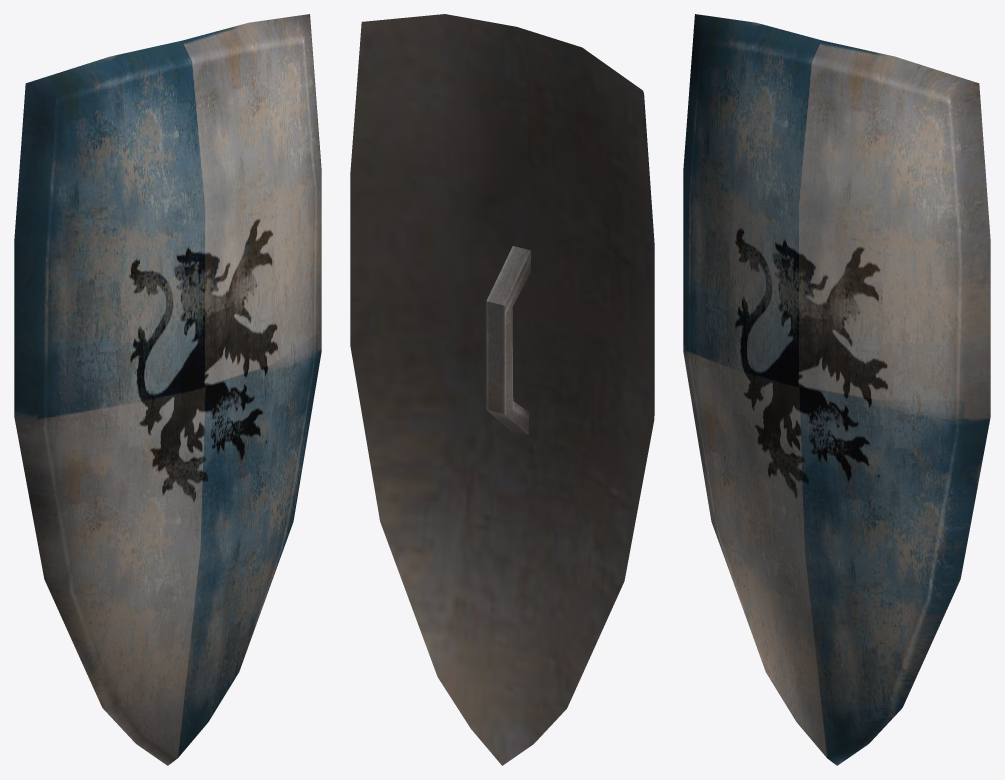
Rendered from weapons_shield02.glb.
3 renders of one model, left to right at view 1: azimuth 30°, elevation 25°; view 2: azimuth 150°, elevation 25°; view 3: azimuth 330°, elevation 25°, orthographic.
Visible parts, largest first — view 1: shield02; view 2: shield02; view 3: shield02.
Boxes of the visible parts, x1,y1,x2,y2 form: shield02: [14, 14, 321, 765]; shield02: [350, 14, 654, 765]; shield02: [683, 14, 990, 765].
Size of the model in its own units: 0.3745 by 0.8573 by 0.0945.
Materials: 1 (1 with a texture image).
